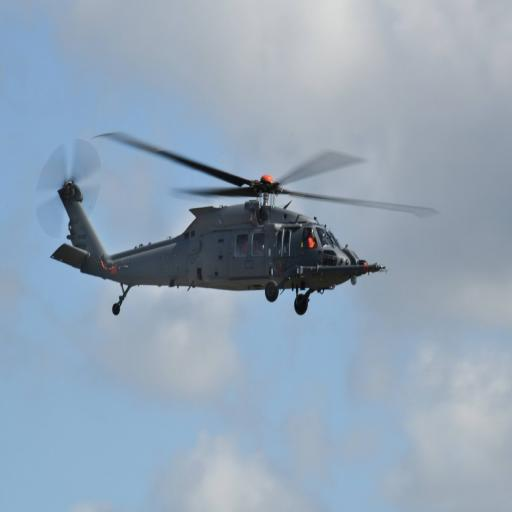helicopter: (38, 133, 438, 316)
